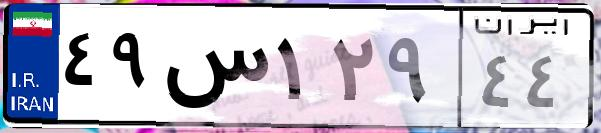1: (270, 28, 330, 110)
2: (330, 28, 385, 110)
4: (57, 26, 110, 100), (475, 38, 525, 113), (525, 38, 570, 115)
9: (385, 28, 445, 110), (110, 28, 158, 98)
س: (158, 20, 270, 120)
